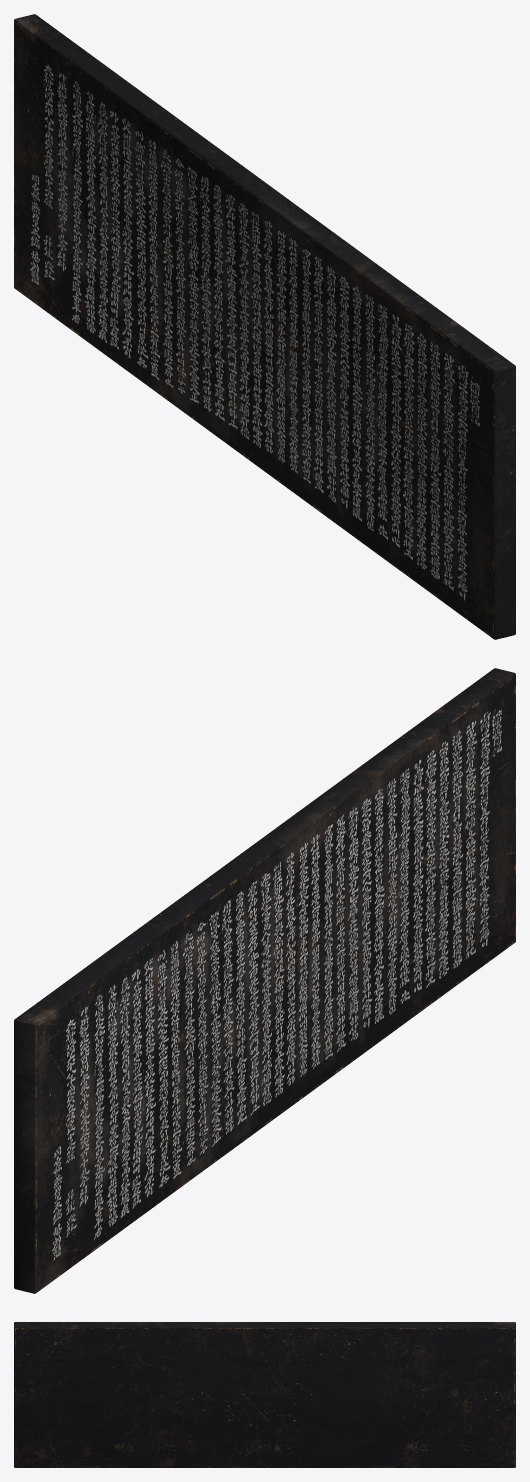
The model's file is SM_GPG_Tablet01b.fbx.
3 views of the same model, one above another, from view 1: azimuth 30°, elevation 25°; view 2: azimuth 150°, elevation 25°; view 3: azimuth 270°, elevation 25° (orthographic). The views are drawn at different scales.
Visible parts, largest first — view 1: SM_GPG_Tablet01b; view 2: SM_GPG_Tablet01b; view 3: SM_GPG_Tablet01b.
Boxes of the visible parts, x1,y1,x2,y2 form: SM_GPG_Tablet01b: (14, 14, 515, 639); SM_GPG_Tablet01b: (14, 668, 515, 1293); SM_GPG_Tablet01b: (14, 1322, 515, 1467).
Bounding box in the file's own units: 6 × 226 × 70.
1 material, 1 textured.
